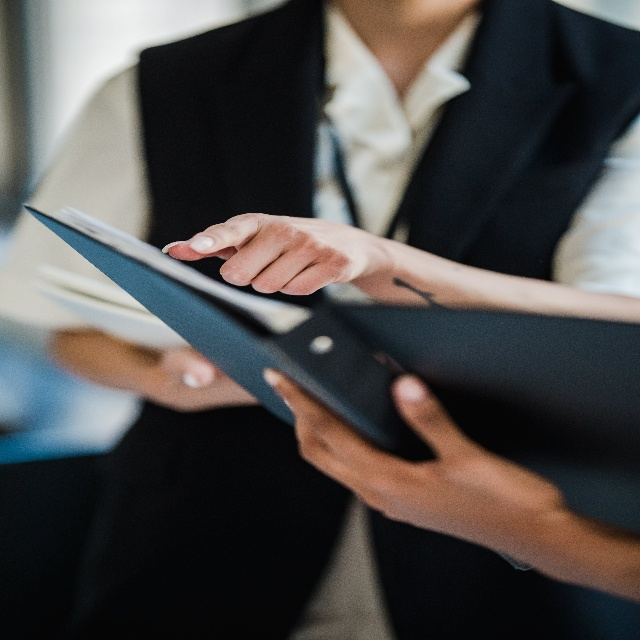Sin_guantes: (262, 373, 566, 565), (161, 212, 379, 296), (156, 345, 261, 412)
